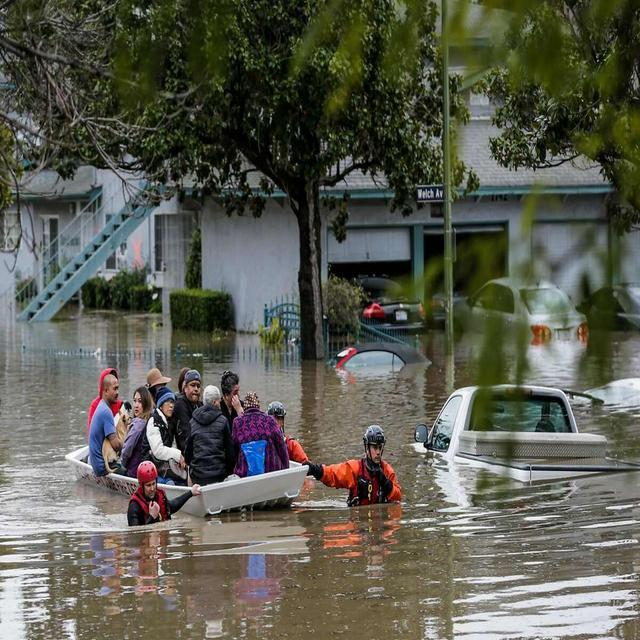Car-RiskLevel3: (412, 367, 640, 505)
Person-RiskLevel3: (77, 358, 306, 485), (303, 428, 406, 512), (114, 458, 208, 526)
